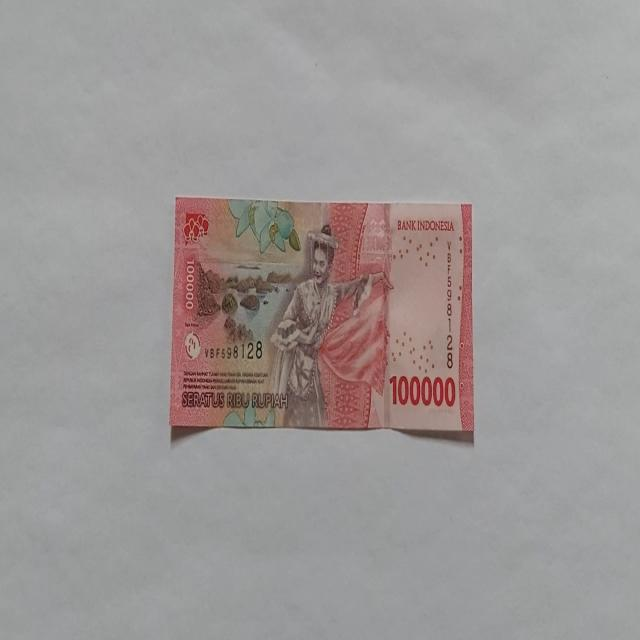seratus ribu rupiah: (168, 196, 474, 438), (268, 224, 382, 428)
